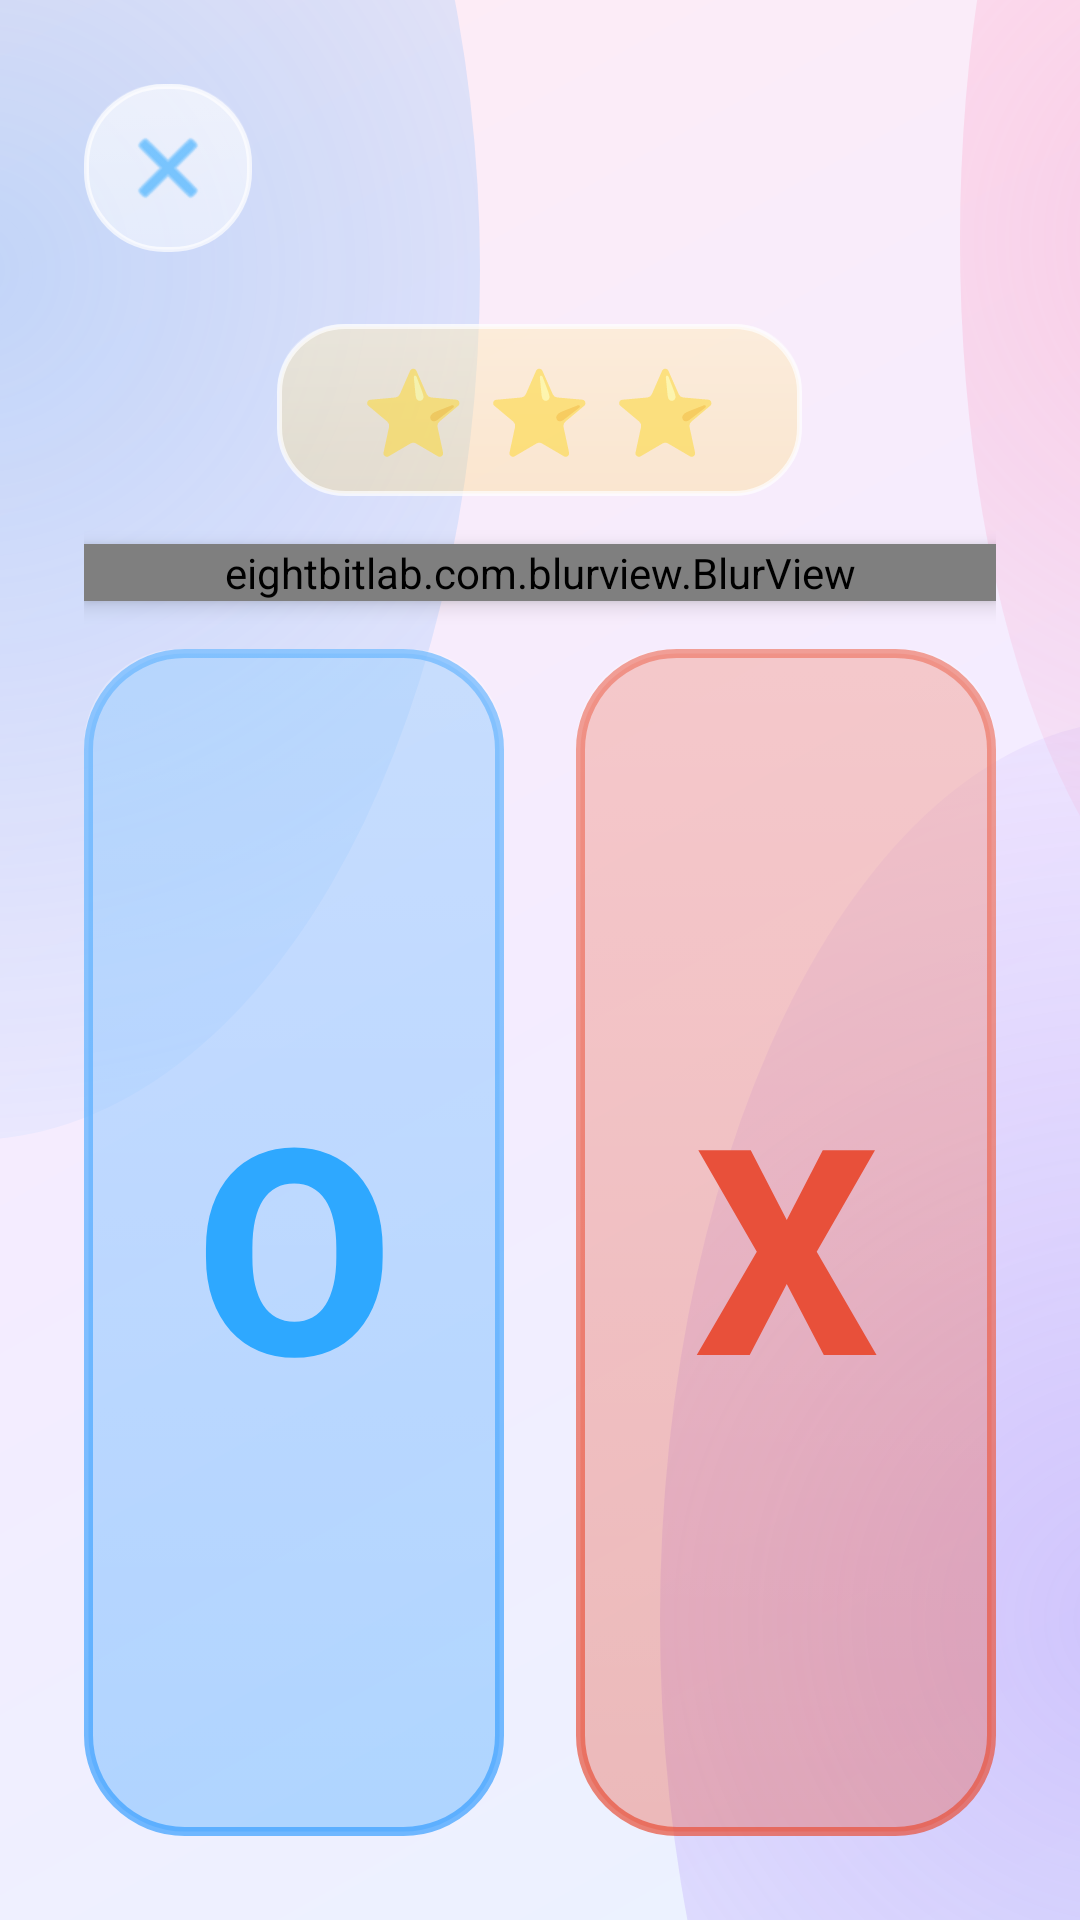

Where to tap for icons on this 1080w x 1920h app screen, as [x,y]:
종료: [168,168]
